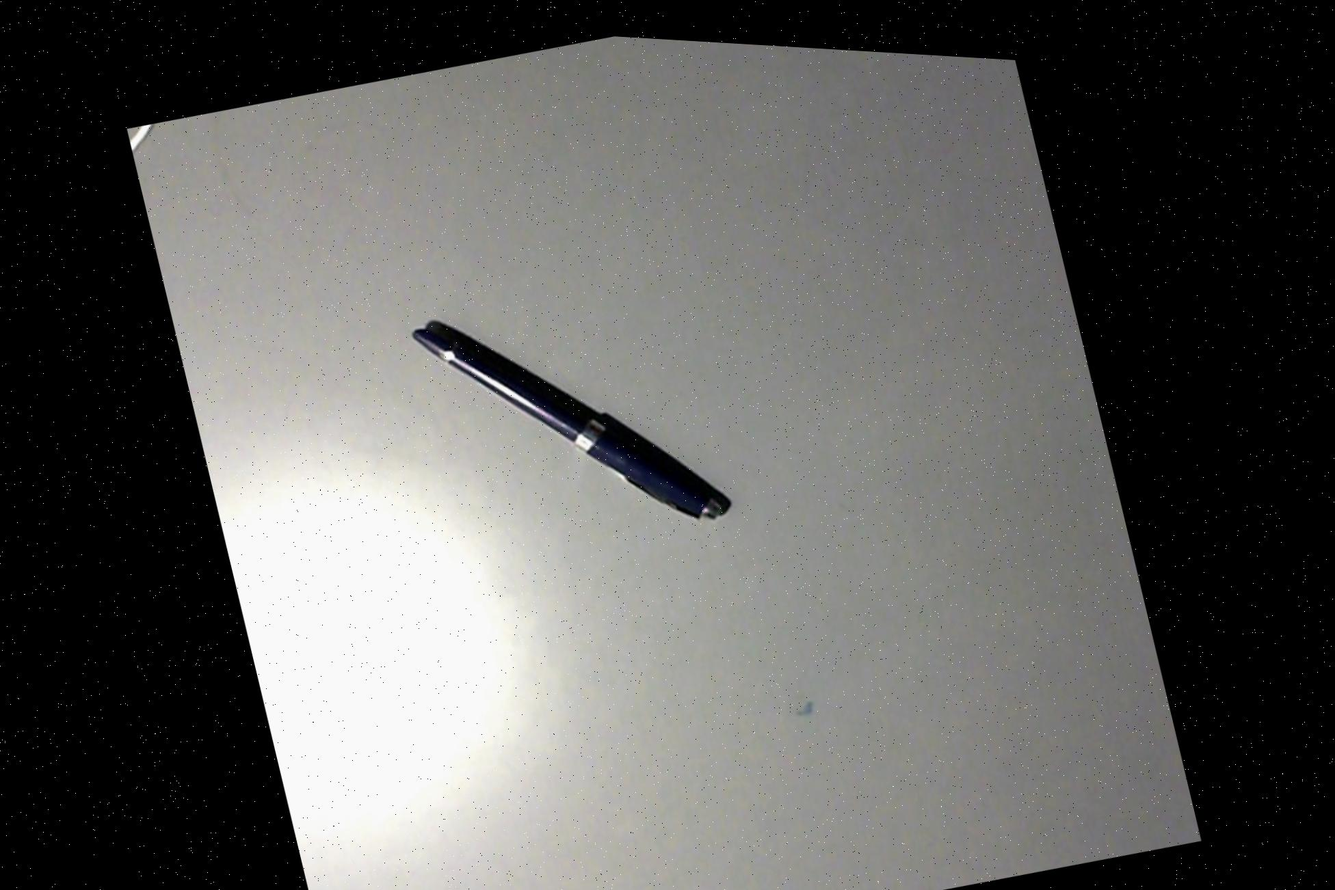pen-pencil: (413, 320, 730, 519)
